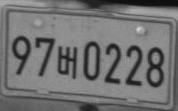0: (82, 40, 101, 81)
2: (103, 42, 121, 84), (125, 44, 142, 86)
7: (34, 36, 55, 77)
8: (145, 46, 164, 87)
9: (11, 35, 31, 75)
버: (57, 45, 78, 79)
